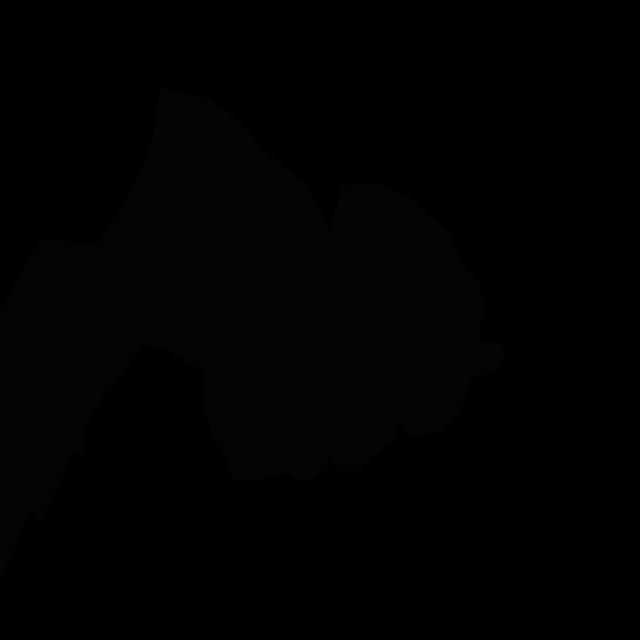soft_plastic: (0, 87, 506, 581)
